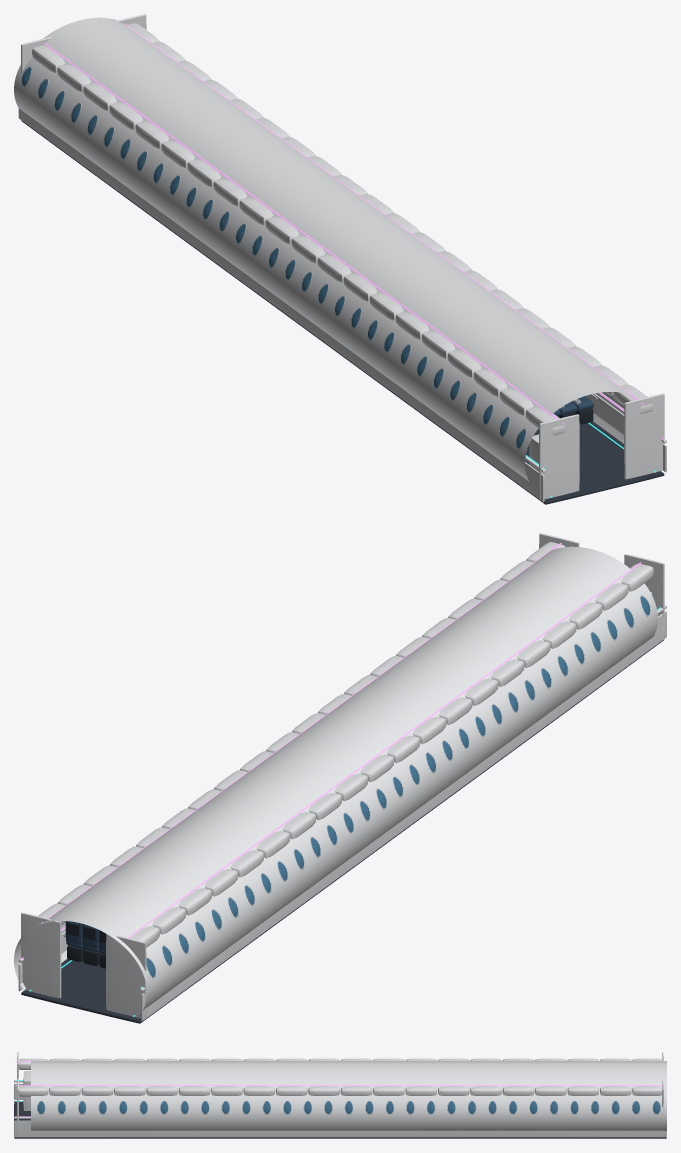
File: boeing-737-700.glb
The picture shows the model from 3 angles, top to bottom: view 1: azimuth 30°, elevation 25°; view 2: azimuth 150°, elevation 25°; view 3: azimuth 270°, elevation 25°; orthographic projection. The views are drawn at different scales.
Visible parts, largest first — view 1: Lower sidewall -1, Carpet floor, Bulkhead right, Bulkhead left, Cabin wall bay -1 3, Cabin wall bay -1 20, Cabin wall bay -1 28, Cabin wall bay -1 30, Cabin wall bay -1 22, Cabin wall bay -1 1, Cabin wall bay -1 14, Cabin wall bay -1 6 (+27 smaller); view 2: Lower sidewall -1, Bulkhead left (×2), Carpet floor, Bulkhead right, Cabin wall bay -1 12, Cabin wall bay -1 6, Cabin wall bay -1 1, Cabin wall bay -1 3, Cabin wall bay -1 14, Cabin wall bay -1 28, Cabin wall bay -1 4, Cabin wall bay -1 17 (+26 smaller); view 3: Overhead luggage bin 1 (×20), Lower sidewall 1, Carpet floor, Cabin wall bay 1 17, Cabin wall bay 1 11, Cabin wall bay 1 19, Cabin wall bay 1 15, Cabin wall bay 1 13, Cabin wall bay 1 20, Cabin wall bay 1 14, Cabin wall bay 1 22, Cabin wall bay 1 6 (+25 smaller).
Part boxes in pixels (bbox=[...]): Lower sidewall -1: bbox=[18, 108, 544, 502]; Carpet floor: bbox=[21, 121, 664, 504]; Bulkhead right: bbox=[624, 393, 664, 479]; Bulkhead left: bbox=[539, 414, 579, 500]; Cabin wall bay -1 3: bbox=[63, 56, 145, 155]; Cabin wall bay -1 20: bbox=[343, 261, 426, 360]; Cabin wall bay -1 28: bbox=[475, 358, 557, 456]; Cabin wall bay -1 30: bbox=[508, 382, 590, 481]; Cabin wall bay -1 22: bbox=[376, 285, 459, 384]; Cabin wall bay -1 1: bbox=[30, 32, 112, 131]; Cabin wall bay -1 14: bbox=[244, 189, 327, 288]; Cabin wall bay -1 6: bbox=[113, 92, 195, 191]; Lower sidewall -1: bbox=[141, 611, 666, 1021]; Bulkhead left (×2): bbox=[106, 554, 664, 1019]; Carpet floor: bbox=[21, 640, 663, 1023]; Bulkhead right: bbox=[21, 912, 61, 998]; Cabin wall bay -1 12: bbox=[278, 766, 361, 865]; Cabin wall bay -1 6: bbox=[179, 839, 262, 937]; Cabin wall bay -1 1: bbox=[97, 899, 179, 998]; Cabin wall bay -1 3: bbox=[130, 875, 212, 974]; Cabin wall bay -1 14: bbox=[311, 742, 394, 840]; Cabin wall bay -1 28: bbox=[542, 573, 624, 672]; Cabin wall bay -1 4: bbox=[147, 863, 229, 961]; Cabin wall bay -1 17: bbox=[361, 706, 443, 804]; Overhead luggage bin 1 (×20): bbox=[19, 1086, 661, 1096]; Lower sidewall 1: bbox=[14, 1120, 666, 1137]; Carpet floor: bbox=[14, 1101, 666, 1138]; Cabin wall bay 1 17: bbox=[297, 1066, 318, 1130]; Cabin wall bay 1 11: bbox=[420, 1066, 441, 1130]; Cabin wall bay 1 19: bbox=[256, 1066, 277, 1130]; Cabin wall bay 1 15: bbox=[338, 1066, 359, 1130]; Cabin wall bay 1 13: bbox=[379, 1066, 400, 1130]; Cabin wall bay 1 20: bbox=[236, 1066, 256, 1130]; Cabin wall bay 1 14: bbox=[359, 1066, 379, 1130]; Cabin wall bay 1 22: bbox=[195, 1066, 215, 1130]; Cabin wall bay 1 6: bbox=[523, 1066, 543, 1130].
Bounding box in the file's own units: 3.54 × 2.21 × 24.19.
